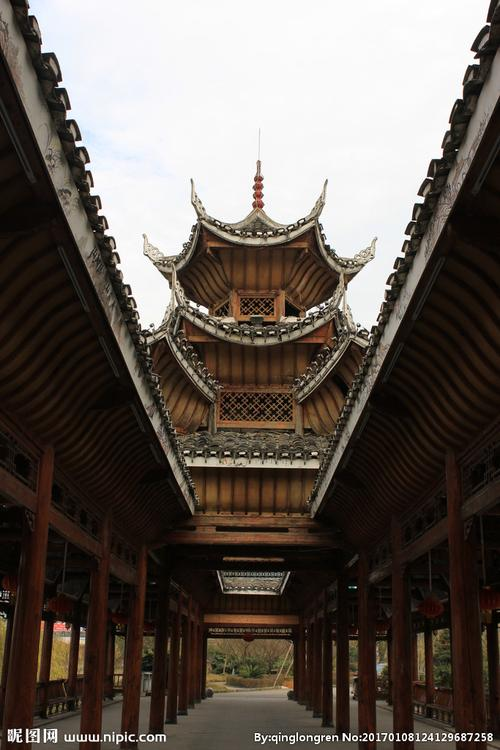buildings: (33, 124, 463, 675)
